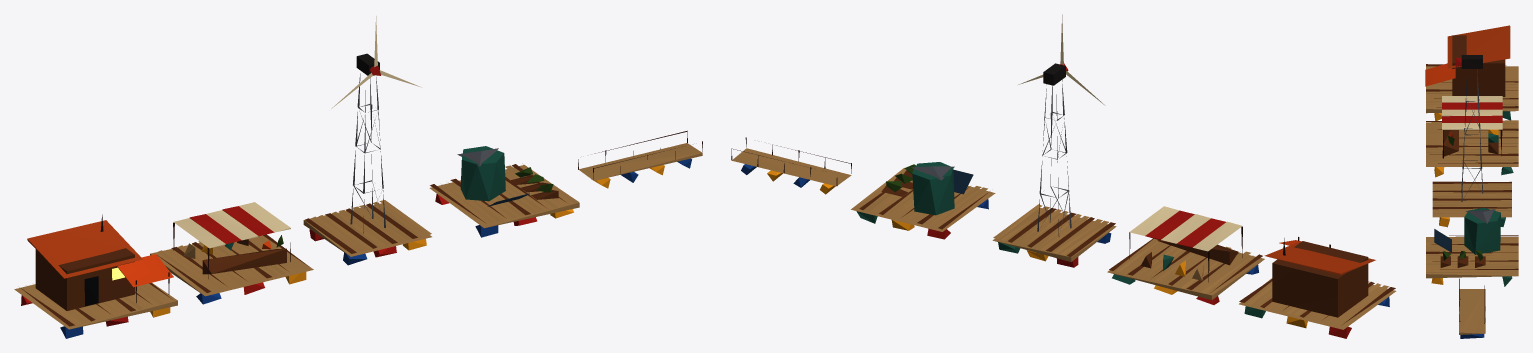
Rendered from tb_settlement_kit.three-web-toon.lod25.glb.
3 renders of one model, left to right at view 1: azimuth 30°, elevation 25°; view 2: azimuth 150°, elevation 25°; view 3: azimuth 270°, elevation 25°, orthographic. The views are drawn at different scales.
Visible parts, largest first — view 1: mod_shack_lod, mod_market_lod, mod_water_lod, mod_turbine_lod, mod_walkway_lod; view 2: mod_shack_lod, mod_market_lod, mod_water_lod, mod_turbine_lod, mod_walkway_lod; view 3: mod_market_lod, mod_shack_lod, mod_water_lod, mod_turbine_lod, mod_walkway_lod.
Part boxes in pixels (x1=…): mod_shack_lod: x1=14, y1=214, x2=177, y2=338; mod_market_lod: x1=150, y1=202, x2=313, y2=304; mod_water_lod: x1=429, y1=146, x2=579, y2=237; mod_turbine_lod: x1=303, y1=53, x2=431, y2=265; mod_walkway_lod: x1=578, y1=130, x2=702, y2=188; mod_shack_lod: x1=1239, y1=237, x2=1396, y2=338; mod_market_lod: x1=1107, y1=206, x2=1264, y2=304; mod_water_lod: x1=851, y1=162, x2=995, y2=239; mod_turbine_lod: x1=992, y1=63, x2=1116, y2=267; mod_walkway_lod: x1=731, y1=137, x2=851, y2=194; mod_market_lod: x1=1426, y1=96, x2=1518, y2=177; mod_shack_lod: x1=1425, y1=25, x2=1518, y2=120; mod_water_lod: x1=1426, y1=207, x2=1518, y2=286; mod_turbine_lod: x1=1432, y1=55, x2=1511, y2=227; mod_walkway_lod: x1=1459, y1=278, x2=1485, y2=338.
Size of the model in its own units: 48.04 by 16.58 by 7.05.
